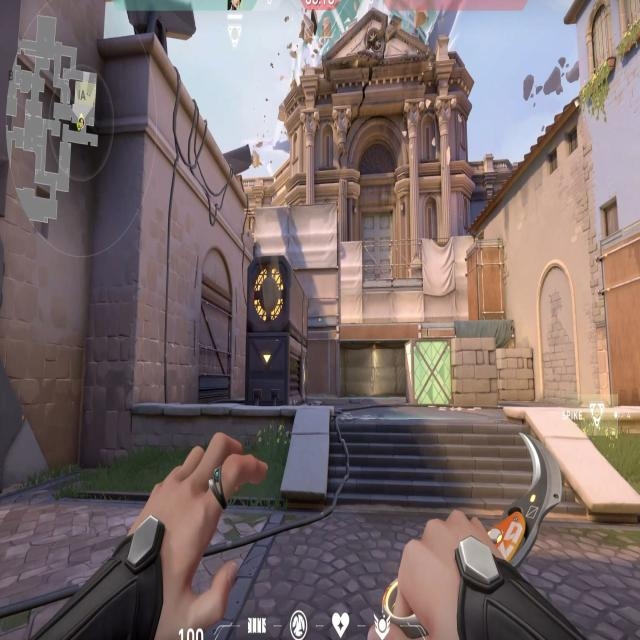A_Heaven_Box: (466, 243, 505, 319)
A_Heaven_Wall: (253, 208, 341, 324)
A_Hell: (327, 330, 431, 397)
A_Site_Box: (409, 341, 495, 408)
